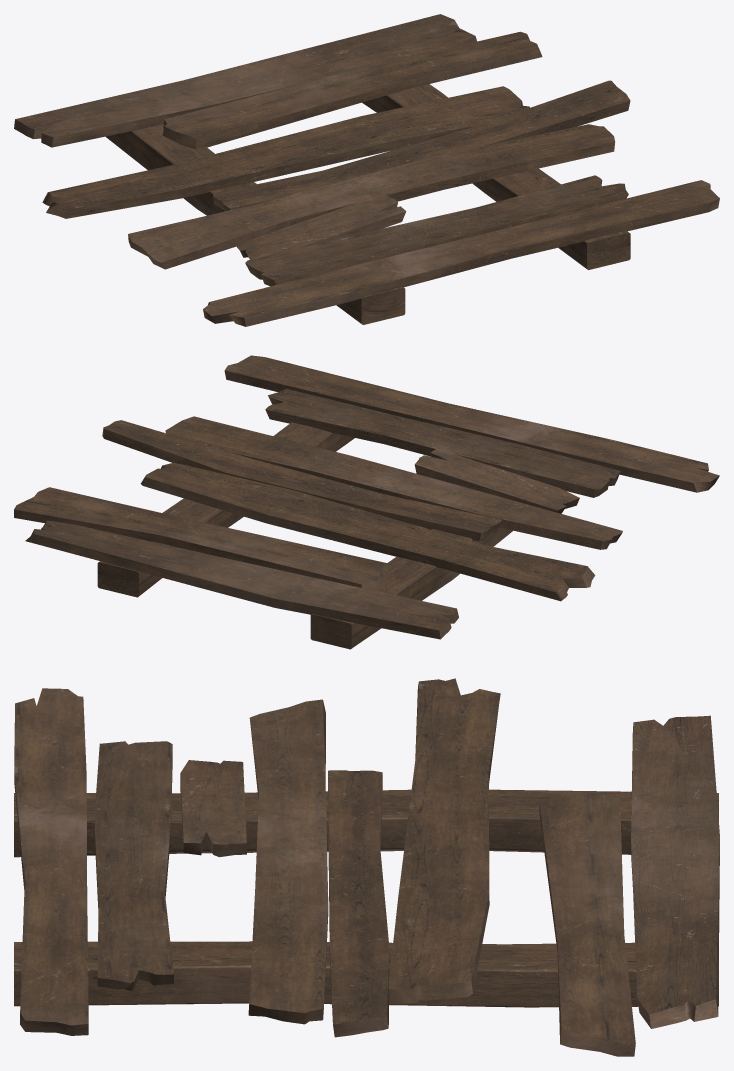
The model's file is SM_Wooden_Floor_Ruined_02.fbx.
The picture shows the model from 3 angles, top to bottom: view 1: azimuth 30°, elevation 25°; view 2: azimuth 150°, elevation 25°; view 3: azimuth 270°, elevation 25°; orthographic projection. The views are drawn at different scales.
Parts seen in each view (by area): view 1: SM_Wooden_Floor_Ruined_02_LOD0; view 2: SM_Wooden_Floor_Ruined_02_LOD0; view 3: SM_Wooden_Floor_Ruined_02_LOD0.
Part boxes in pixels (<box>): SM_Wooden_Floor_Ruined_02_LOD0: <box>14,14,719,326</box>; SM_Wooden_Floor_Ruined_02_LOD0: <box>14,355,719,649</box>; SM_Wooden_Floor_Ruined_02_LOD0: <box>14,678,719,1056</box>.
Size of what is drawn, in the model's own units: 484 by 42.88 by 401.
